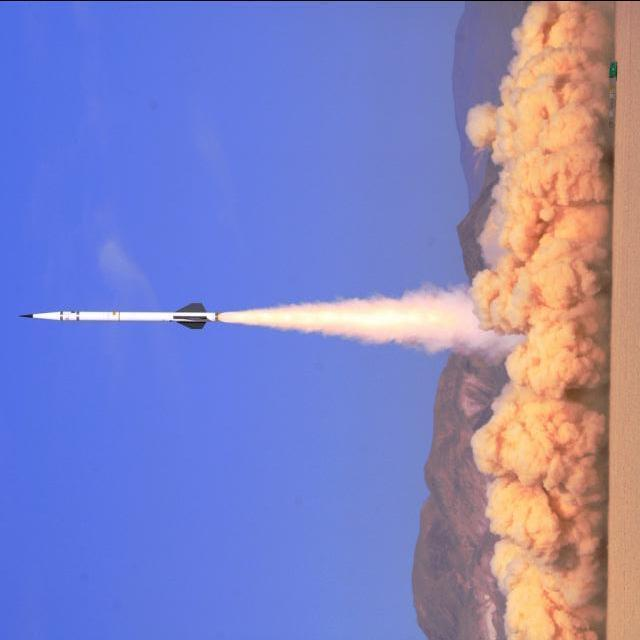missile: (17, 296, 230, 346)
